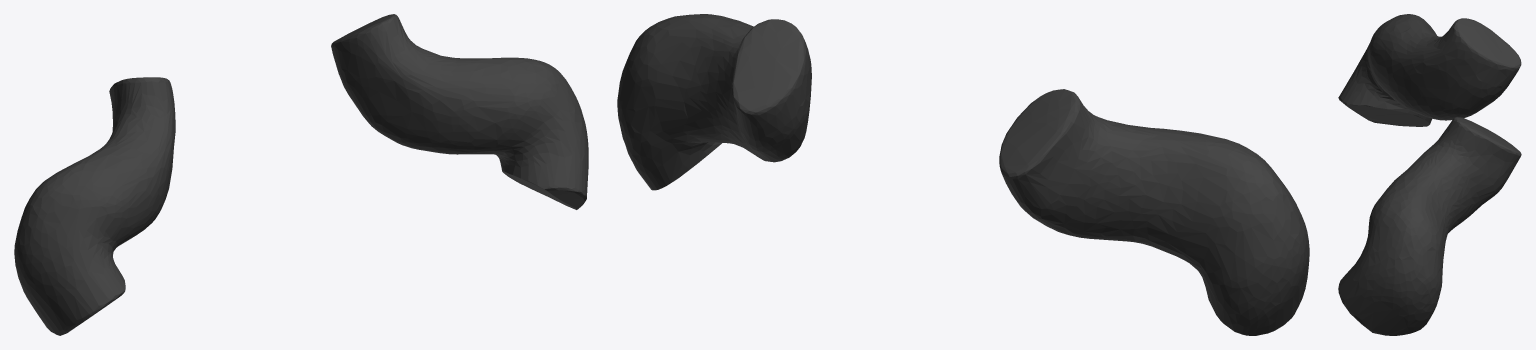
The model's file is Peduncles_rostral_low_Peduncles_rostral_low.glb.
The picture shows the model from 3 angles, left to right: view 1: azimuth 30°, elevation 25°; view 2: azimuth 150°, elevation 25°; view 3: azimuth 270°, elevation 25°; orthographic projection. The views are drawn at different scales.
Parts seen in each view (by area): view 1: Peduncles_rostral_low_Peduncles_rostral_low; view 2: Peduncles_rostral_low_Peduncles_rostral_low; view 3: Peduncles_rostral_low_Peduncles_rostral_low.
Boxes of the visible parts, <box> form: Peduncles_rostral_low_Peduncles_rostral_low: <box>14,14,588,335</box>; Peduncles_rostral_low_Peduncles_rostral_low: <box>617,14,1309,335</box>; Peduncles_rostral_low_Peduncles_rostral_low: <box>1338,14,1521,335</box>.
Bounding box in the file's own units: 26.42 × 8.64 × 8.94.
Materials: 1 (1 with a texture image).
